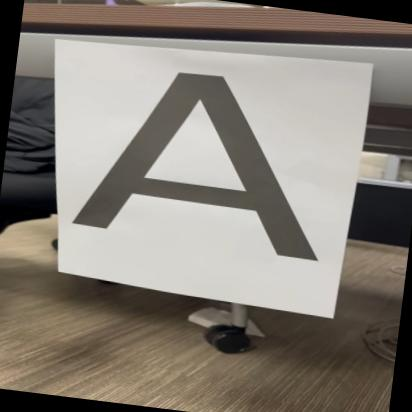seat: (50, 49, 361, 273)
